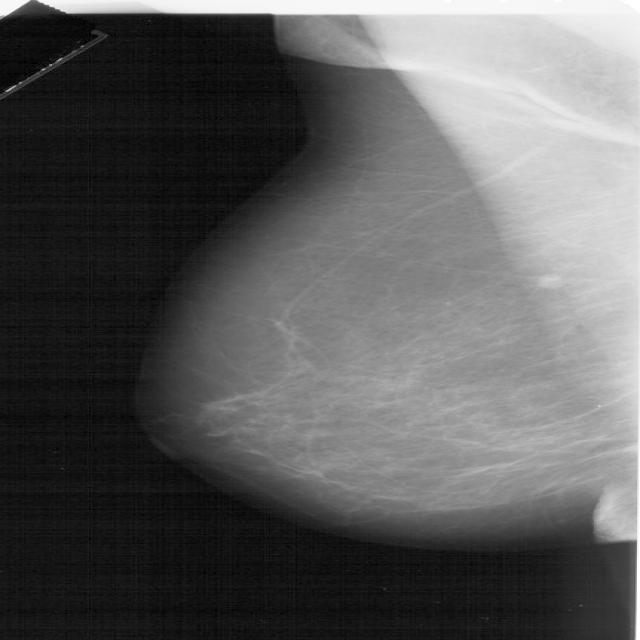tumour: (199, 395, 241, 414)
